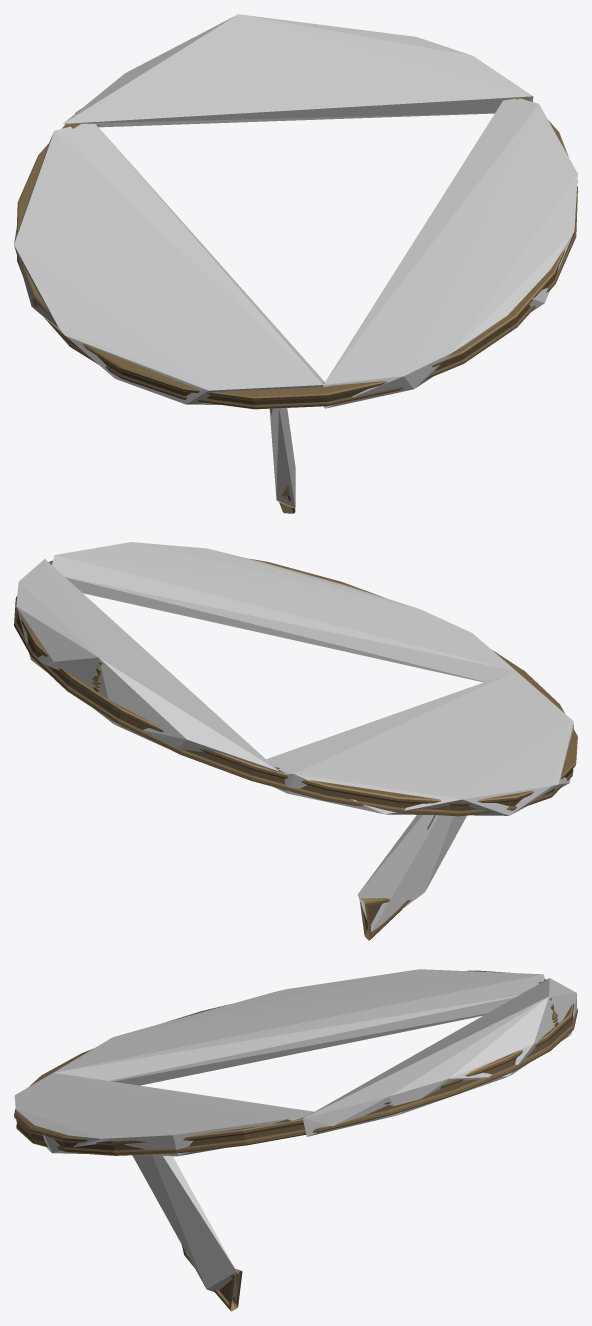
The model's file is SM_Bld_Planetarium_01_Ring_02.fbx.
The picture shows the model from 3 angles, top to bottom: view 1: azimuth 30°, elevation 25°; view 2: azimuth 150°, elevation 25°; view 3: azimuth 270°, elevation 25°; orthographic projection. The views are drawn at different scales.
Parts seen in each view (by area): view 1: SM_Bld_Planetarium_01_Ring_02_ConvexHulls, SM_Bld_Planetarium_01_Ring_02; view 2: SM_Bld_Planetarium_01_Ring_02_ConvexHulls, SM_Bld_Planetarium_01_Ring_02; view 3: SM_Bld_Planetarium_01_Ring_02_ConvexHulls, SM_Bld_Planetarium_01_Ring_02.
Part boxes in pixels (x1,y1,x2,y2): SM_Bld_Planetarium_01_Ring_02_ConvexHulls: (14, 14, 577, 508); SM_Bld_Planetarium_01_Ring_02: (16, 97, 577, 513); SM_Bld_Planetarium_01_Ring_02_ConvexHulls: (16, 542, 573, 931); SM_Bld_Planetarium_01_Ring_02: (14, 558, 577, 940); SM_Bld_Planetarium_01_Ring_02_ConvexHulls: (14, 969, 576, 1298); SM_Bld_Planetarium_01_Ring_02: (14, 970, 577, 1311).
Size of the model in its own units: 527 by 525 by 375.
Materials: 2 (1 with a texture image).
